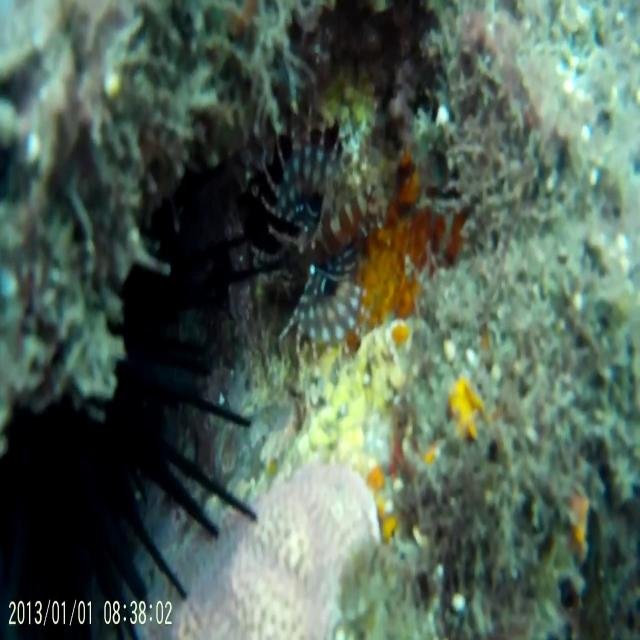Aslan Baligi: (238, 81, 408, 357)
